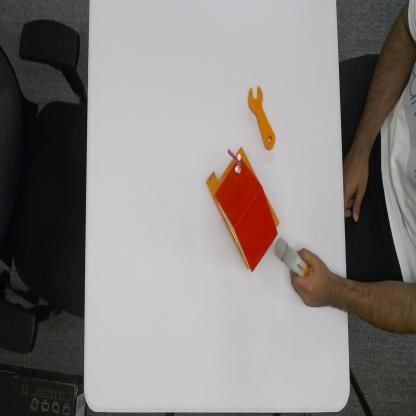Hammer: (274, 235, 310, 278)
Hand: (290, 247, 338, 311)
House: (205, 143, 280, 274)
Screwdriver: (247, 82, 277, 153)
